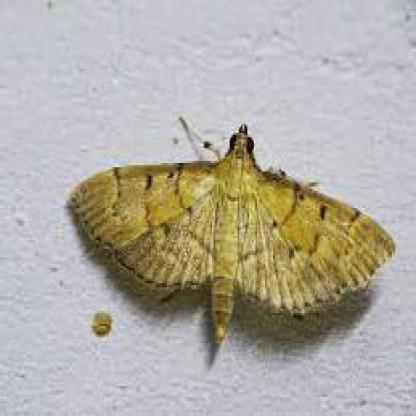Leaf Webber: (65, 119, 402, 351)
